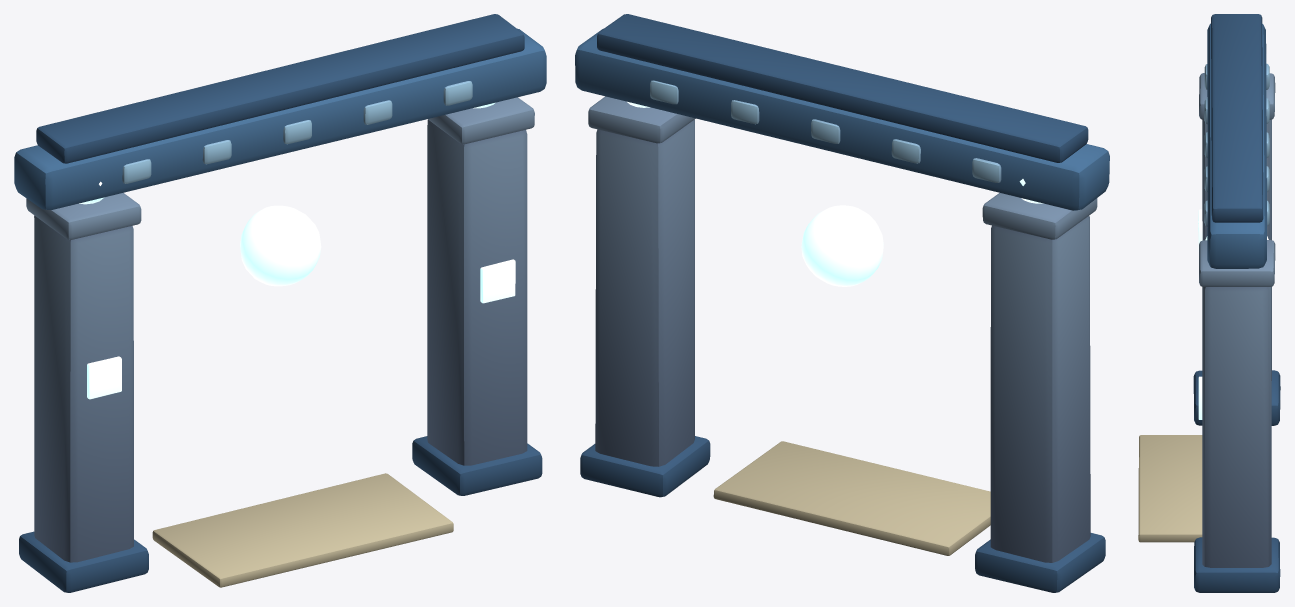
3 views of the same model, side by side, from view 1: azimuth 30°, elevation 25°; view 2: azimuth 150°, elevation 25°; view 3: azimuth 270°, elevation 25° (orthographic). The views are drawn at different scales.
Visible parts, largest first — view 1: gate_b5e7c6ad; view 2: gate_b5e7c6ad; view 3: gate_b5e7c6ad.
Boxes of the visible parts, left/top/right/bottom form: gate_b5e7c6ad: left=14, top=14, right=546, bottom=592; gate_b5e7c6ad: left=575, top=14, right=1109, bottom=592; gate_b5e7c6ad: left=1138, top=14, right=1280, bottom=592.
Bounding box in the file's own units: 5.18 × 4.31 × 1.44.
